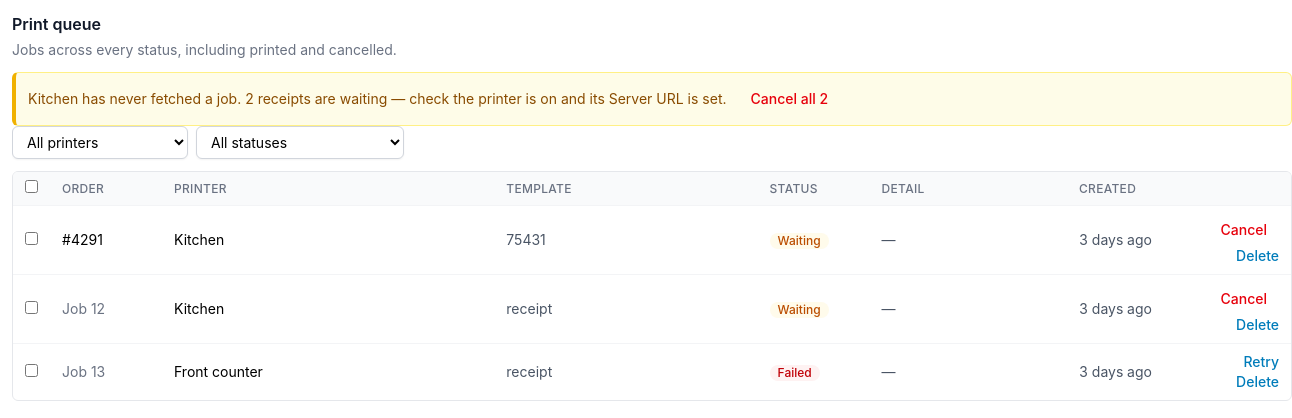
Test case: PrintQueue › surfaces an error snackbar when a cancel request fails
The width and height of the screenshot is (1292, 418).
Click the button with test id "queue-cancel-11": point(1244, 230) [1208, 214, 1279, 246]
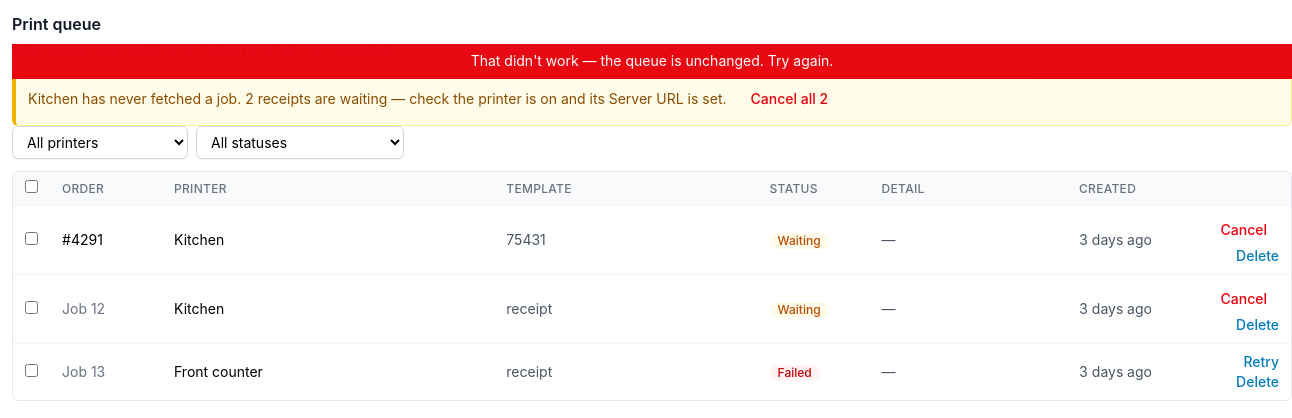
Check: the text "That didn't work — the queue is unchanged. Try again." is shown, box [12, 44, 1291, 79]
